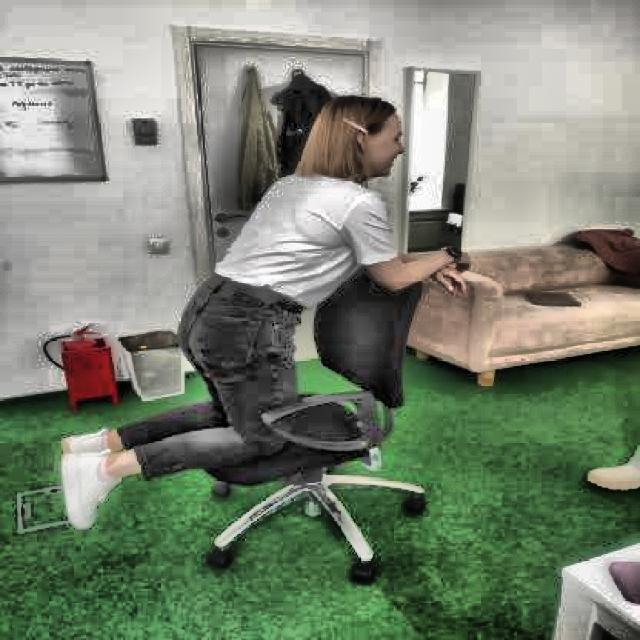cadeira: (182, 251, 450, 580)
